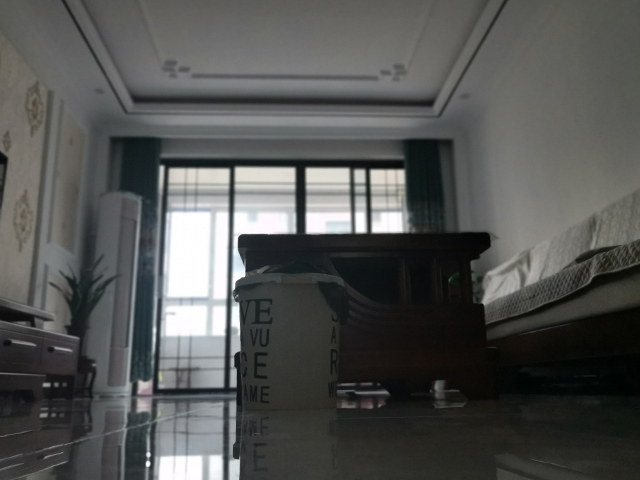cabinet: (1, 296, 83, 404)
curtain: (119, 136, 163, 384)
sofa: (473, 187, 640, 395)
stool: (77, 356, 100, 401)
table: (236, 232, 502, 403)
trashcan: (232, 270, 351, 413)
